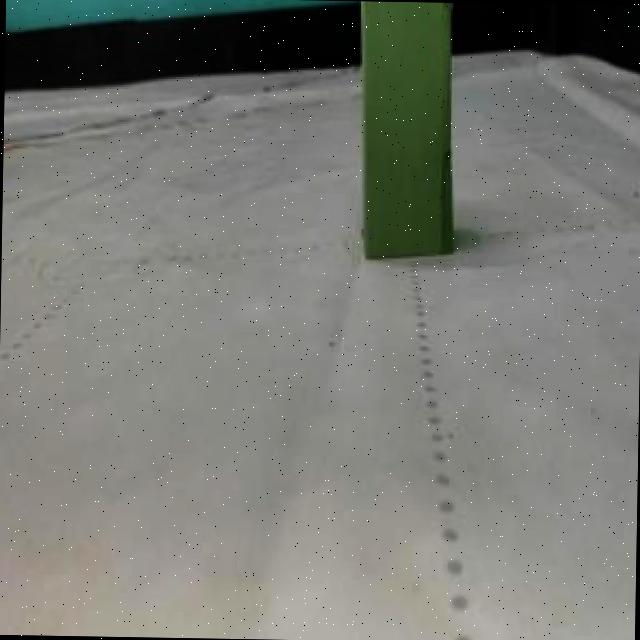greenbox: (354, 0, 456, 258)
